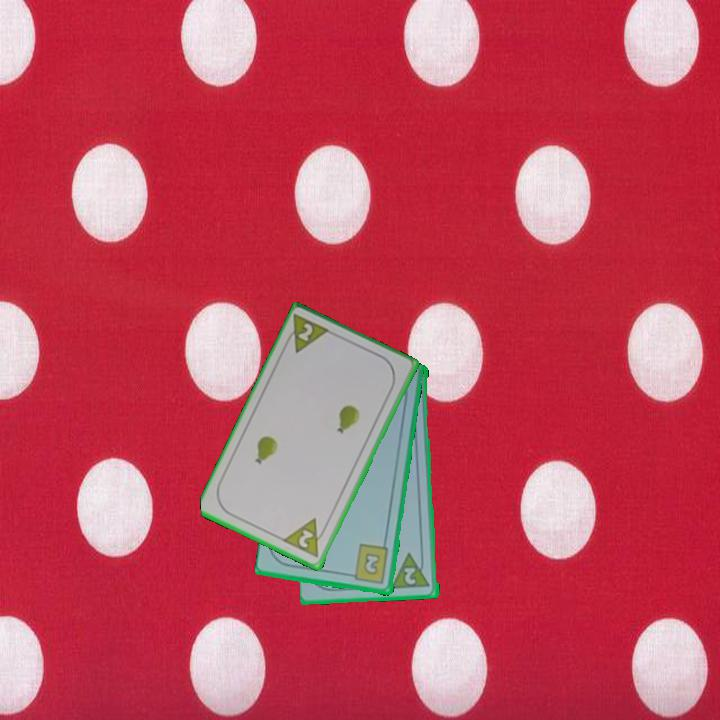2b: (345, 542, 392, 587)
2p: (281, 312, 334, 357), (280, 515, 331, 561), (401, 564, 419, 588)
